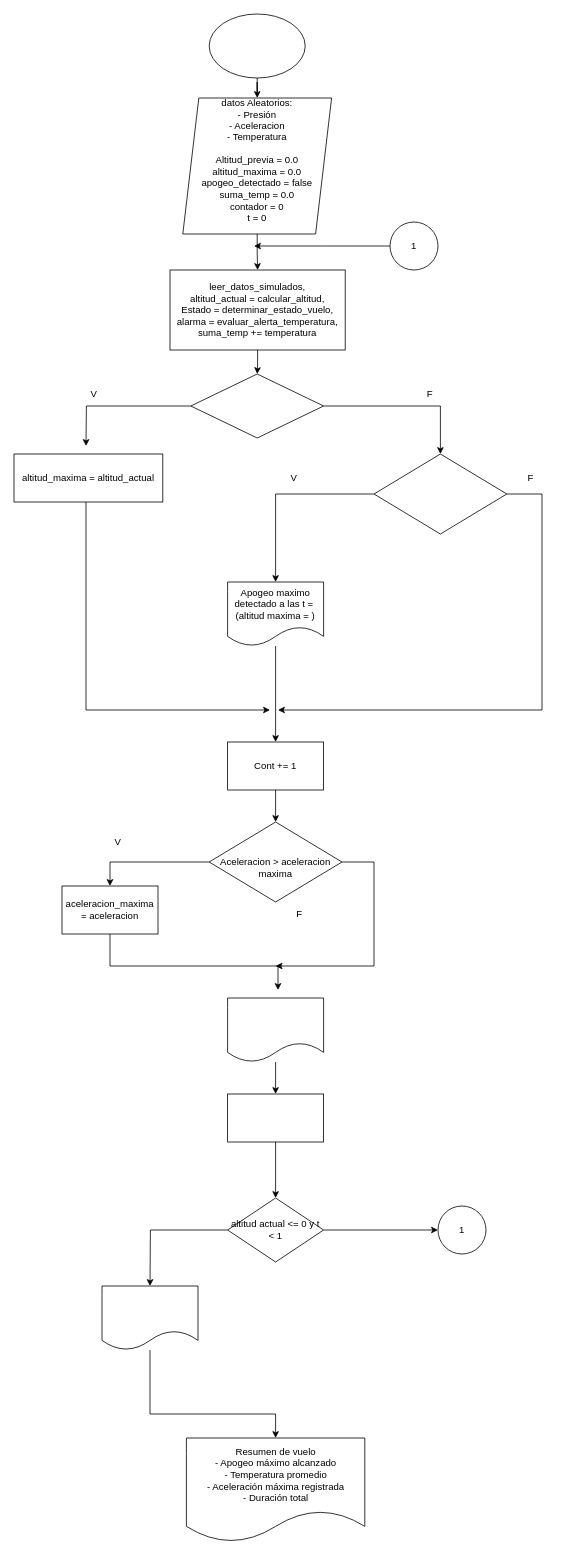
Some shapes in this 569 by 1556 pixel diagram are drawn without their labels. Each missing label, with the centre of its shape:
"Altitud estado Alarma temperatura" belongs at (275,1029).
"altitud_actual = altitud_previa, t += 1" belongs at (275,1117).
"altitud_actual > altitud_maxima" belongs at (257,405).
"Aterrizaje detectado" belongs at (149,1317).
"inicio" belongs at (256,45).
"Not apogeo_maximo y altitud_actual < altitud_previa" belongs at (440,493).
